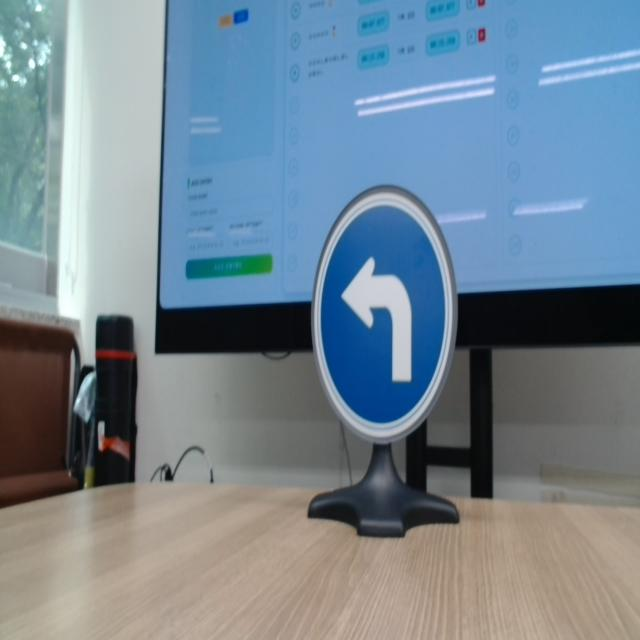left_direction: (306, 168, 470, 452)
